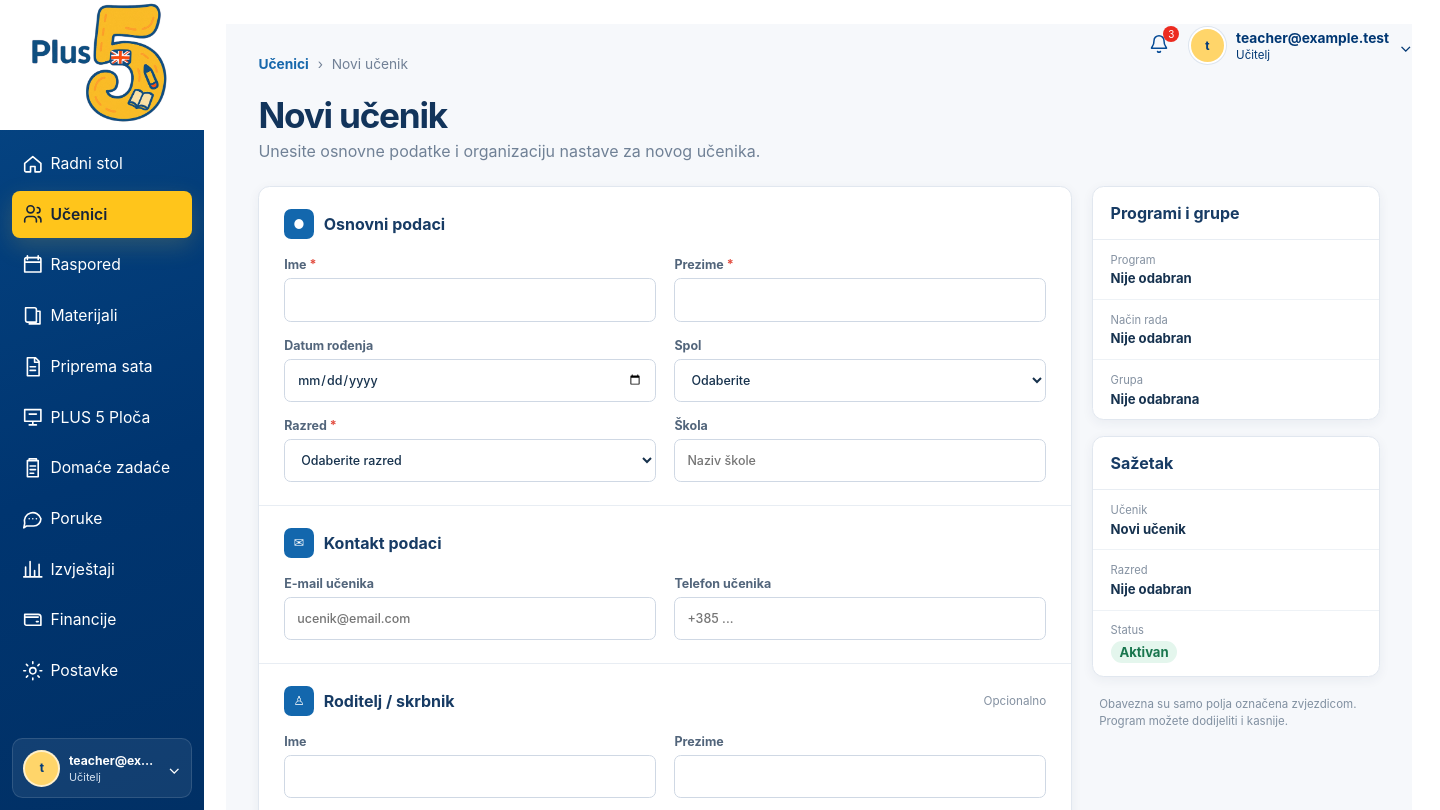
Scenario: student creation › creates a student without requiring a program and opens its dossier
This screenshot has width=1440, height=810.
Expected: the heading "Novi učenik" is shown, [258,94,447,136]
In the field labelled "Ime *": (470, 300) [284,278,656,322], type "Ana"
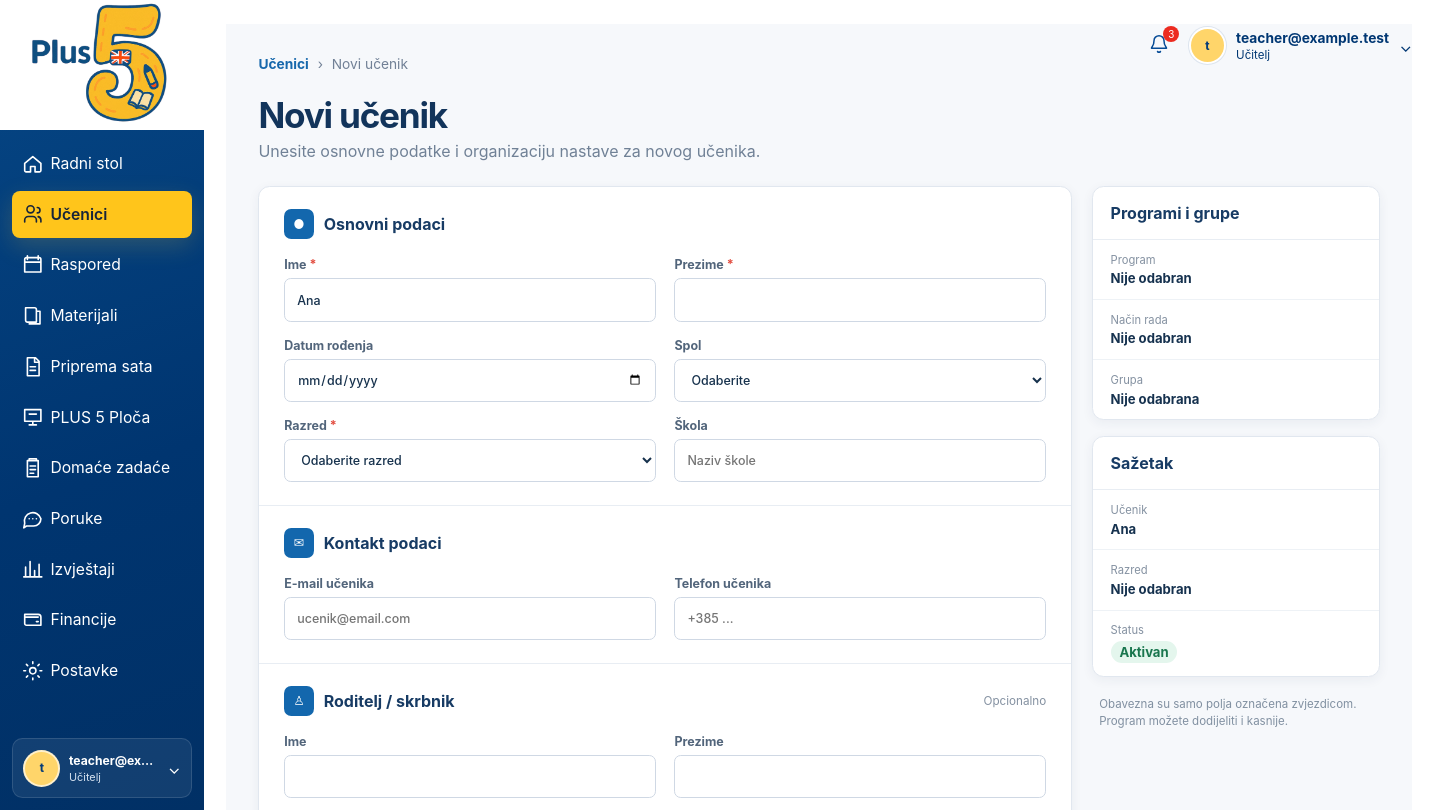
In the field labelled "Prezime *": (860, 300) [674,278,1046,322], type "Anić"
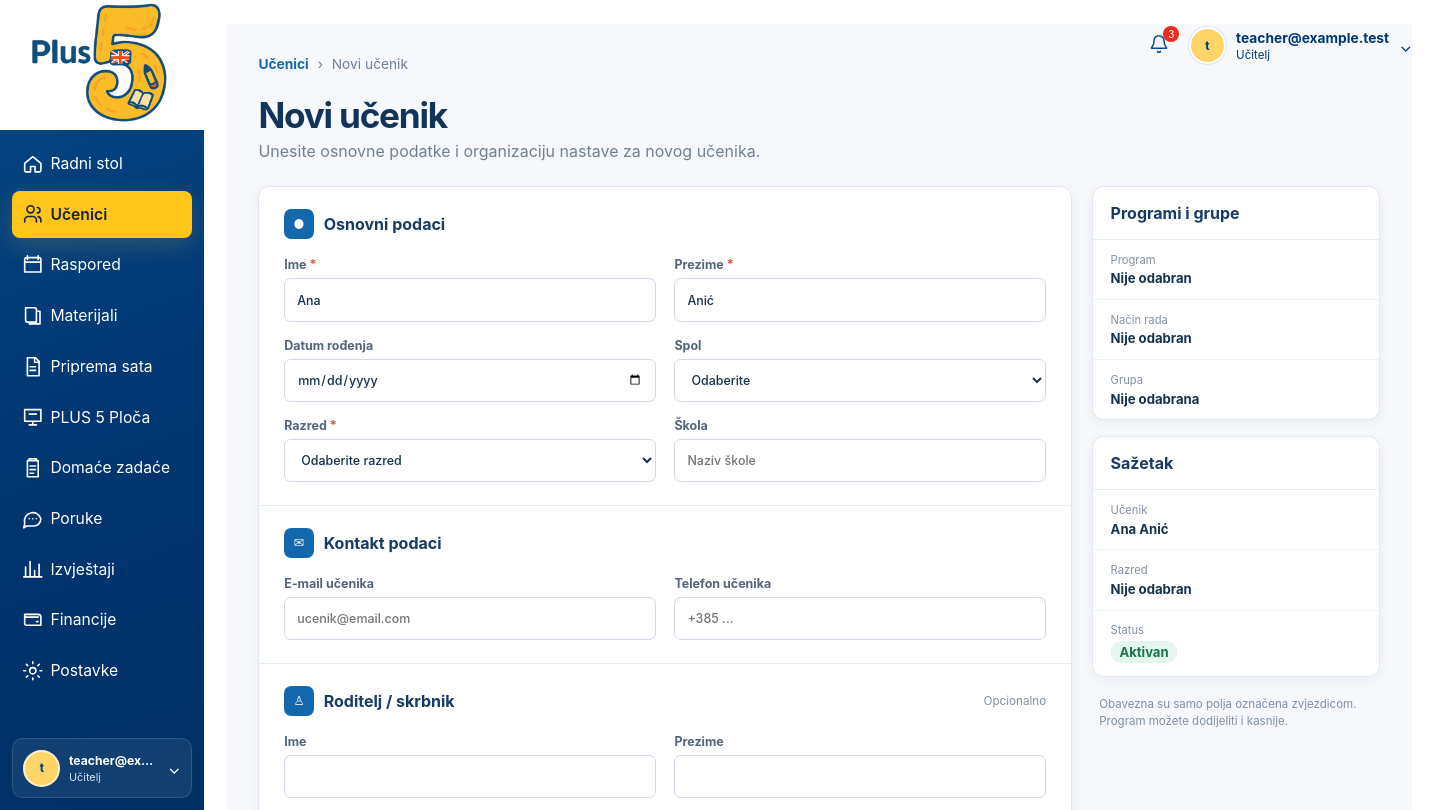
Select "7R — Sedmi razred" in the dropdown labelled "Razred *": (470, 461) [284,439,656,482]
(page scrolled)
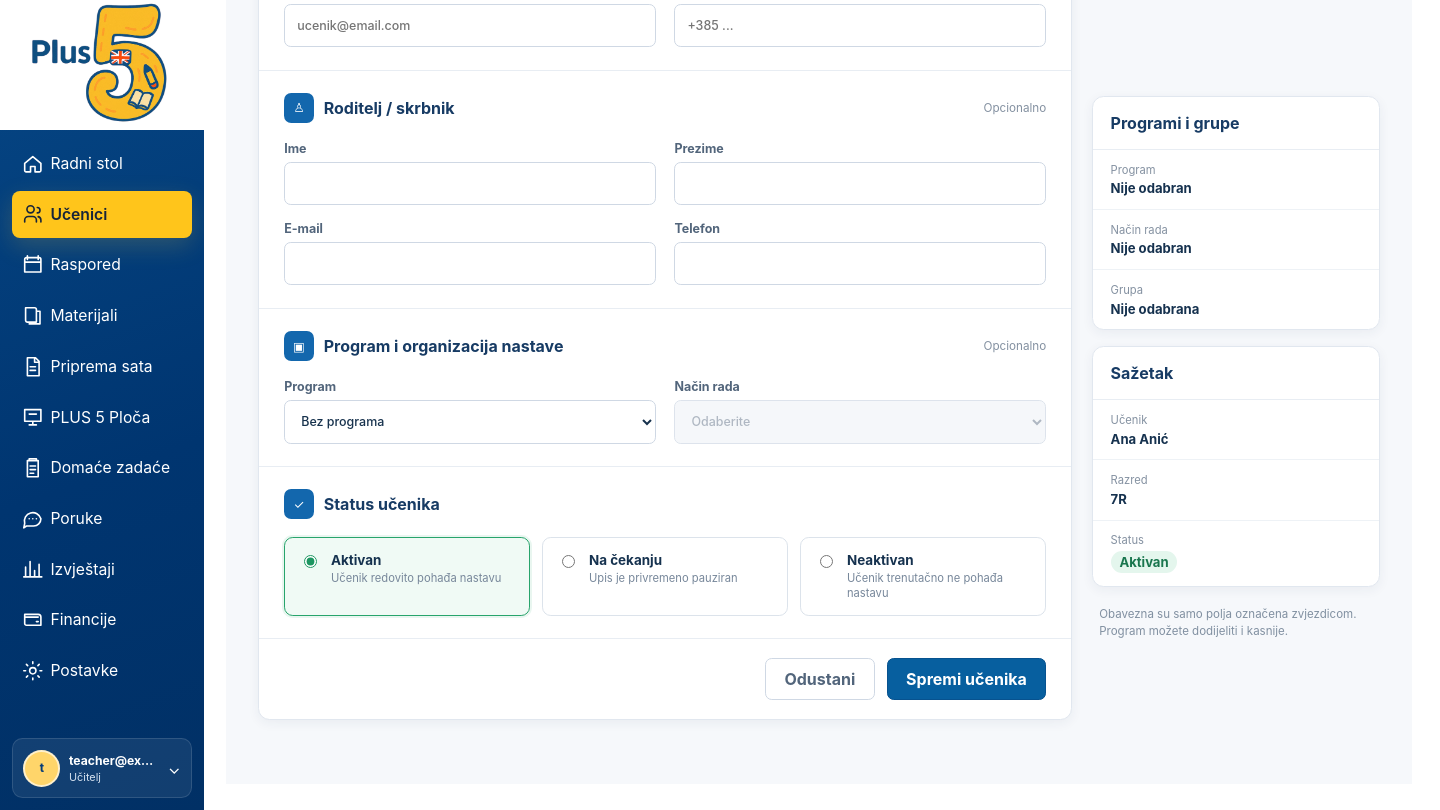
Click the button "Spremi učenika": (966, 679) [887,658,1046,700]
(page scrolled)
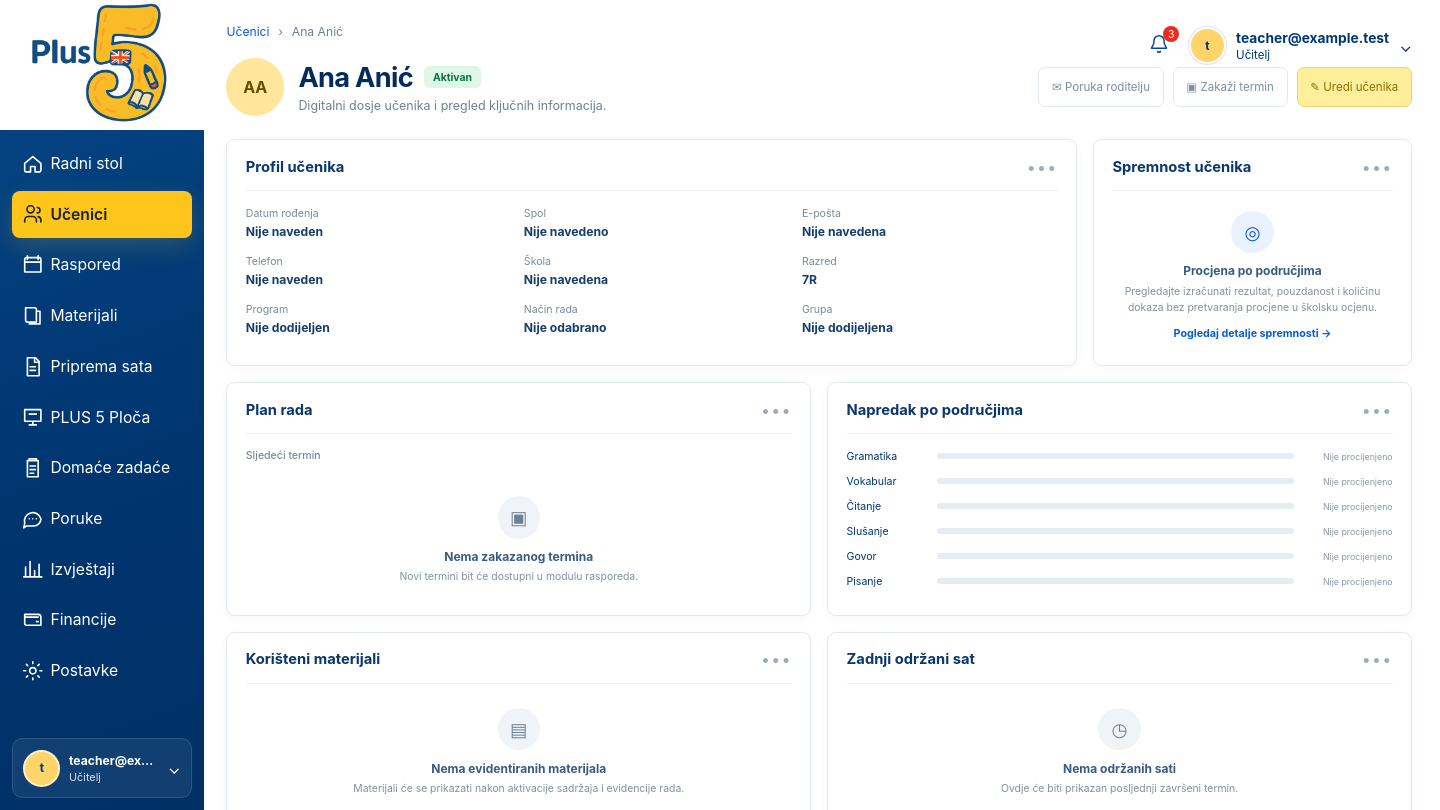
Now the heading "Ana Anić" is shown, box [298,61,413,94]
